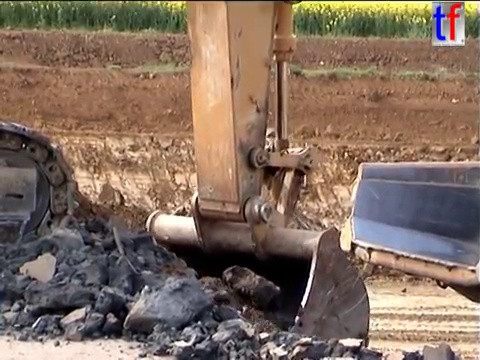excavator: (1, 1, 375, 360)
truck: (337, 156, 480, 310)
